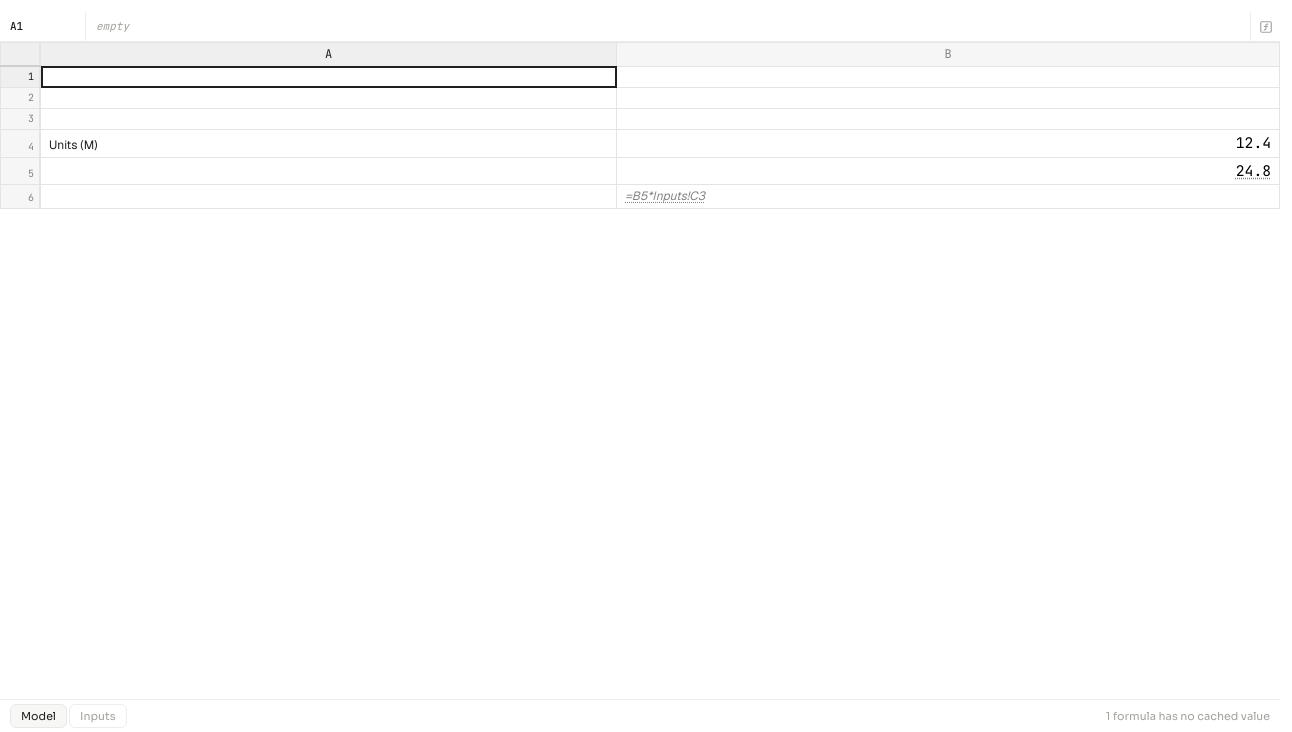
Test: ExcelViewer › hands a selected range to the composer as a locator plus a TSV block
Press the mouse on the text "Units (M)" at (329, 144), box [40,130,617,157]
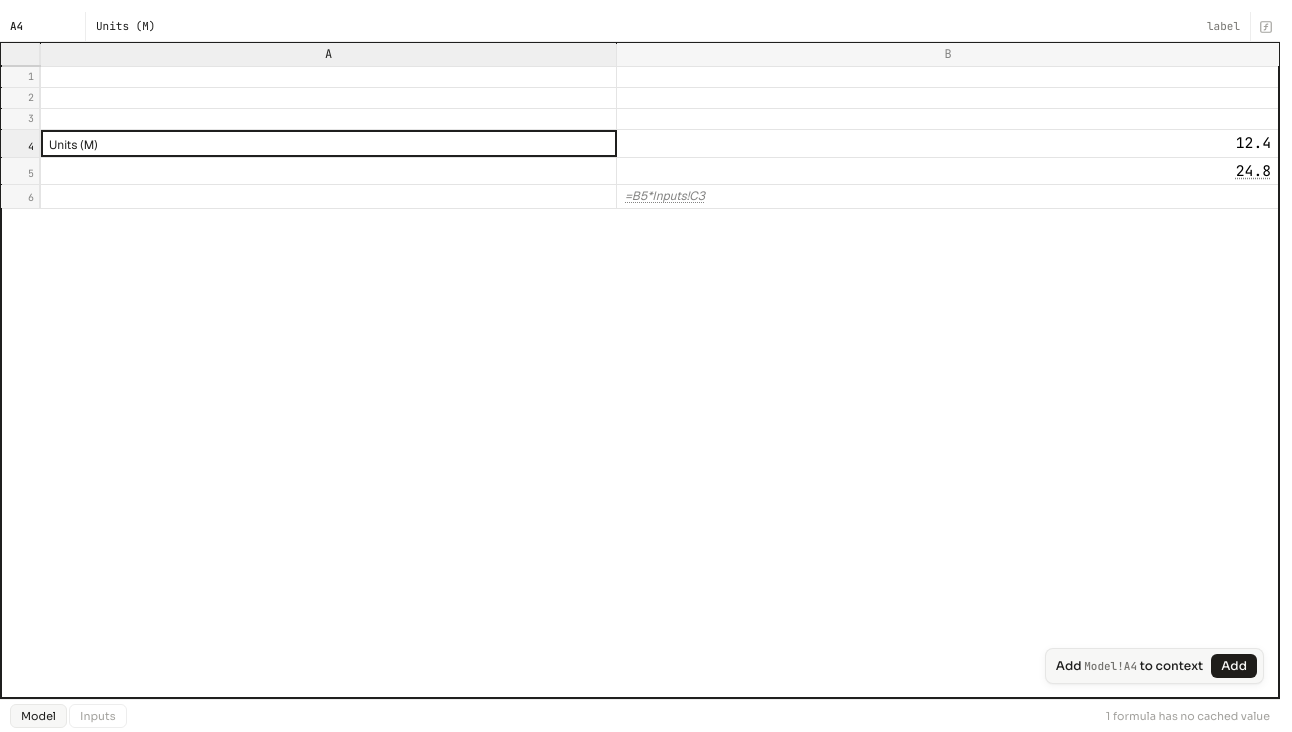
Press the mouse on the cell "24.8" at (948, 171), box [617,157,1280,185]
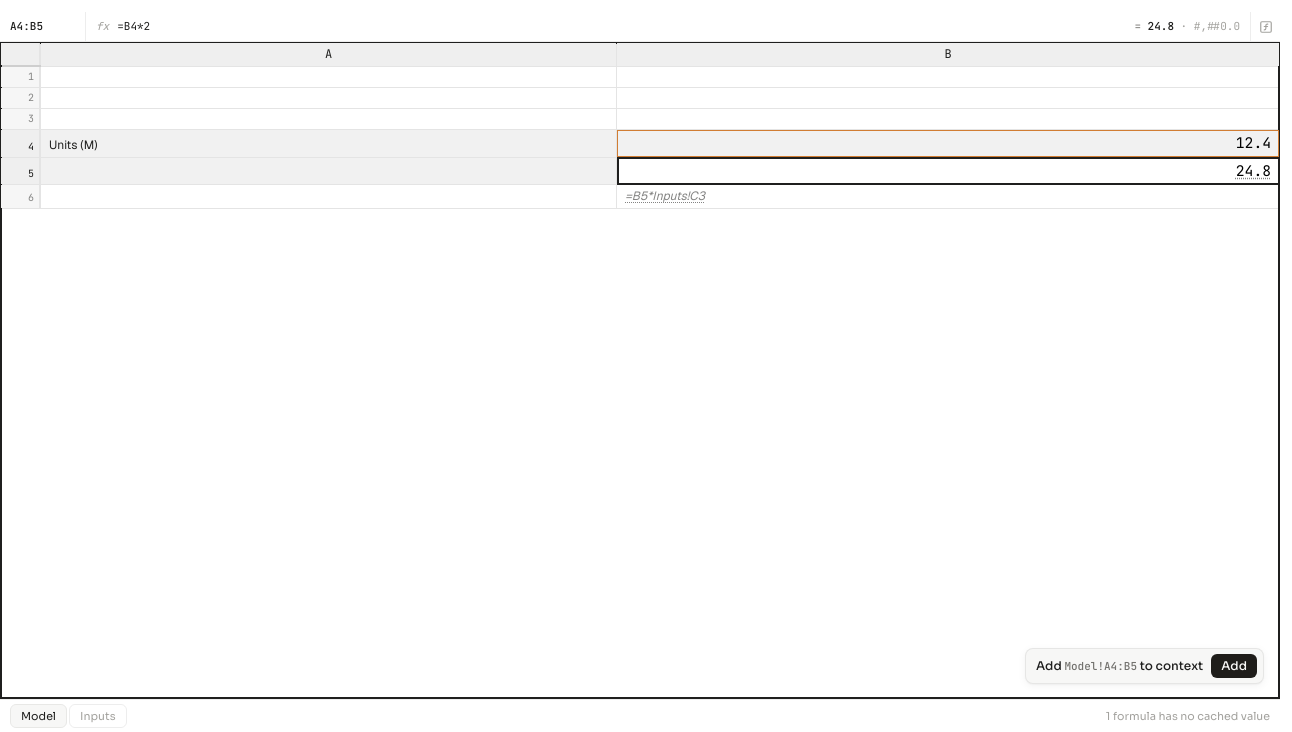
Click the button "Add" at (1234, 666), box [1211,654,1257,678]
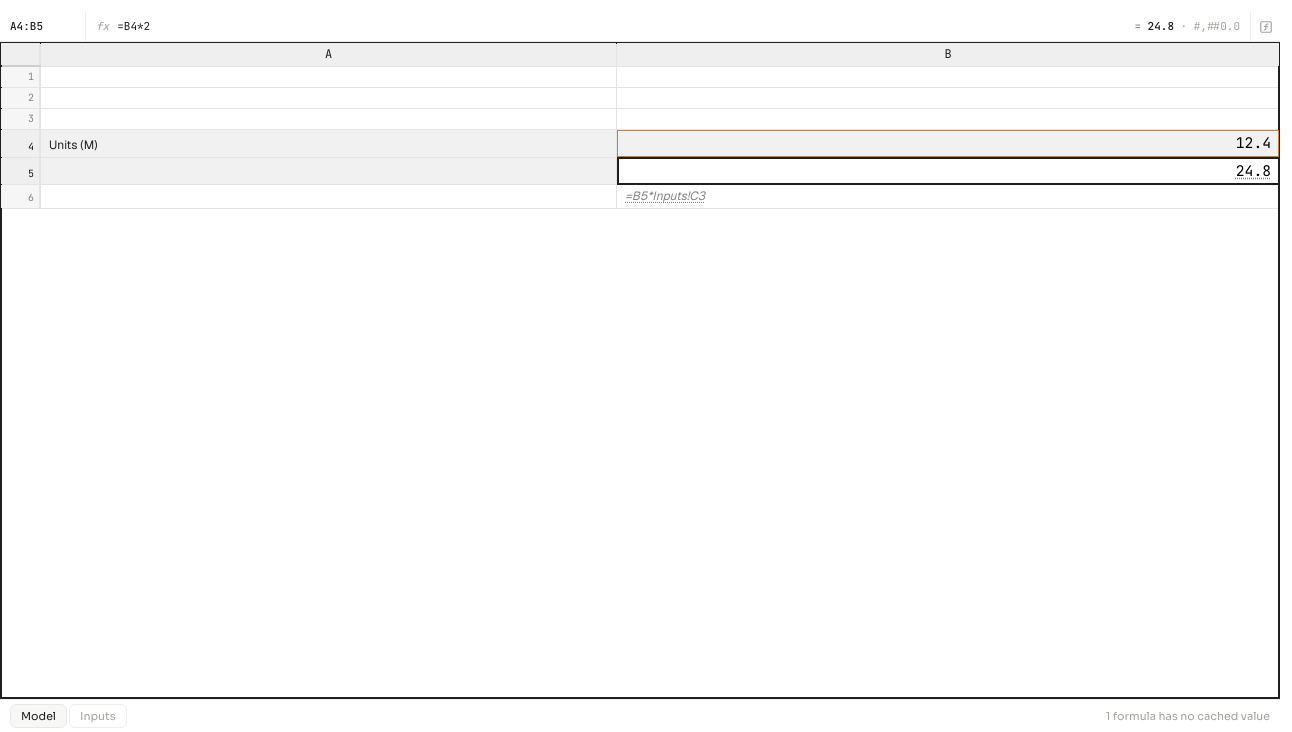
Check: the text "Add" is gone
